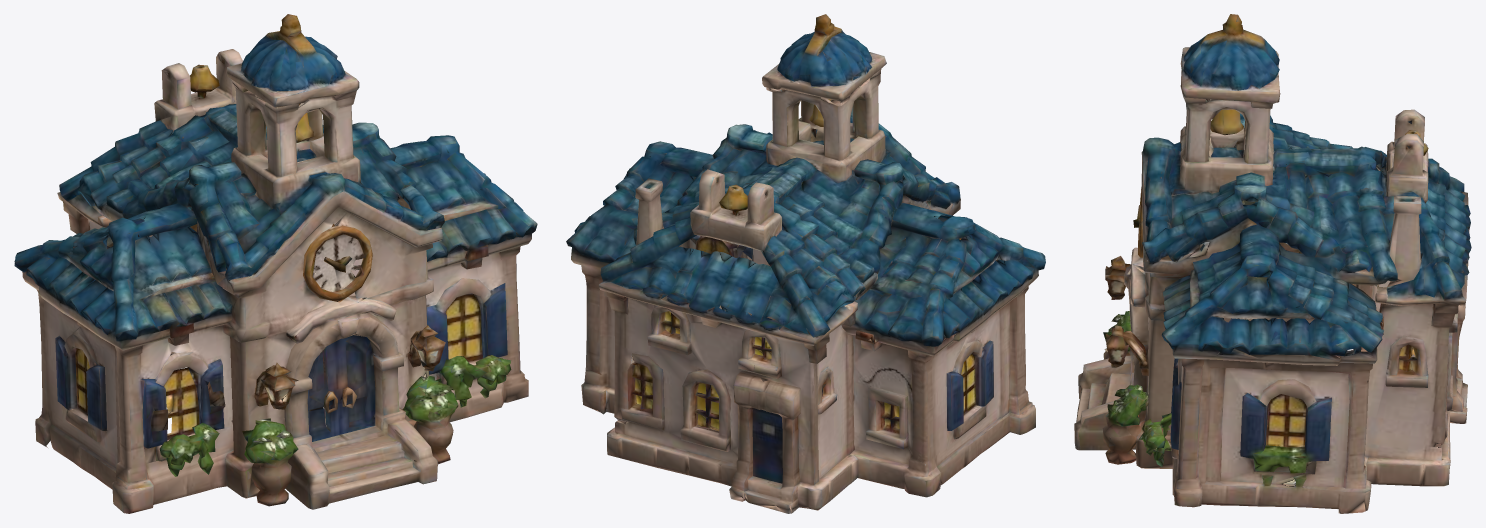
Rendered from candidate.glb.
3 views of the same model, side by side, from view 1: azimuth 30°, elevation 25°; view 2: azimuth 150°, elevation 25°; view 3: azimuth 270°, elevation 25° (orthographic). The views are drawn at different scales.
Parts seen in each view (by area): view 1: harbor__civic_hall__native_mobile; view 2: harbor__civic_hall__native_mobile; view 3: harbor__civic_hall__native_mobile.
Part boxes in pixels (box(x1,y1,x2,y2)): harbor__civic_hall__native_mobile: box(14, 14, 537, 513); harbor__civic_hall__native_mobile: box(566, 14, 1045, 513); harbor__civic_hall__native_mobile: box(1074, 14, 1471, 513).
Bounding box in the file's own units: 1 × 0.9788 × 0.8405.
Materials: 1 (1 with a texture image).
